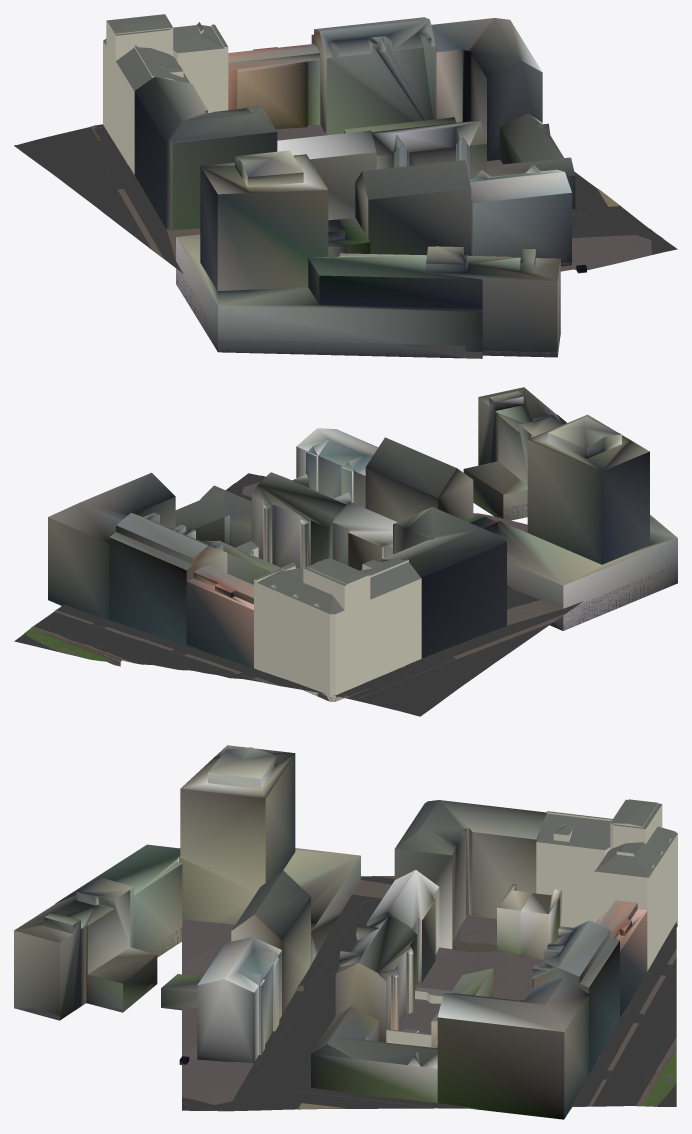
3 renders of one model, top to bottom at view 1: azimuth 30°, elevation 25°; view 2: azimuth 150°, elevation 25°; view 3: azimuth 270°, elevation 25°, orthographic. The views are drawn at different scales.
Visible parts, largest first — view 1: c_p05_m17; view 2: c_p05_m17; view 3: c_p05_m17.
Part boxes in pixels (box(x1,y1,x2,y2)): c_p05_m17: box(14, 14, 677, 358); c_p05_m17: box(14, 387, 677, 716); c_p05_m17: box(14, 745, 677, 1119).
Size of the model in its own units: 144 by 46.89 by 172.
